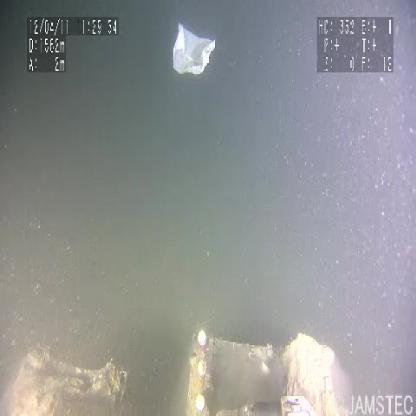Rác: (171, 20, 218, 78)
